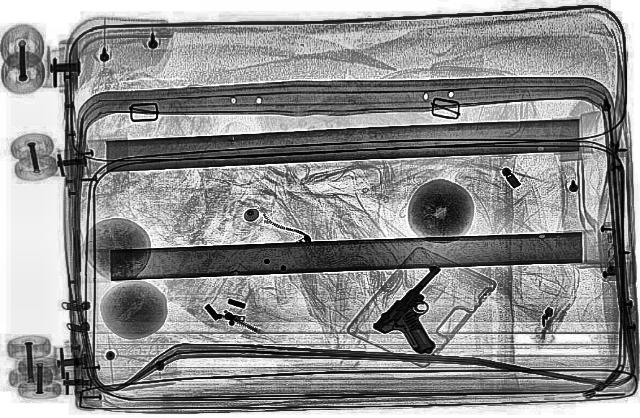Gun: (362, 264, 496, 356)
